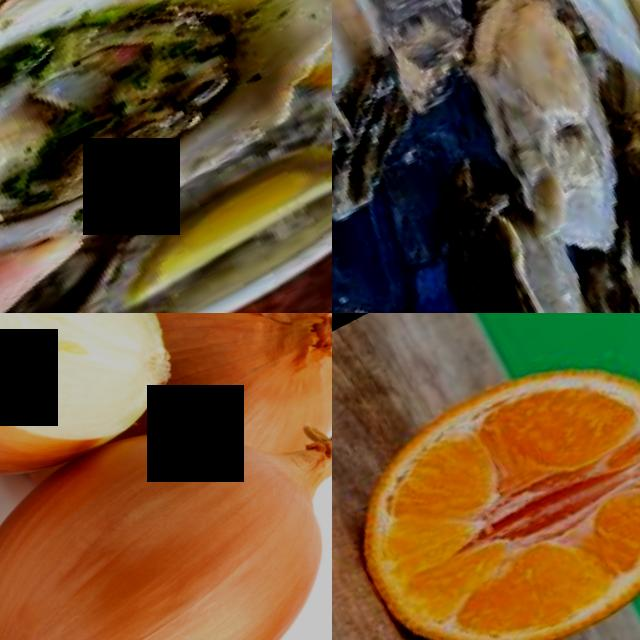onion: (0, 380, 332, 640), (0, 313, 205, 531), (111, 313, 332, 487)
orange: (332, 321, 640, 640)
oysters: (0, 0, 332, 313), (413, 0, 640, 269), (380, 155, 606, 313), (332, 0, 442, 247), (578, 110, 640, 313)
